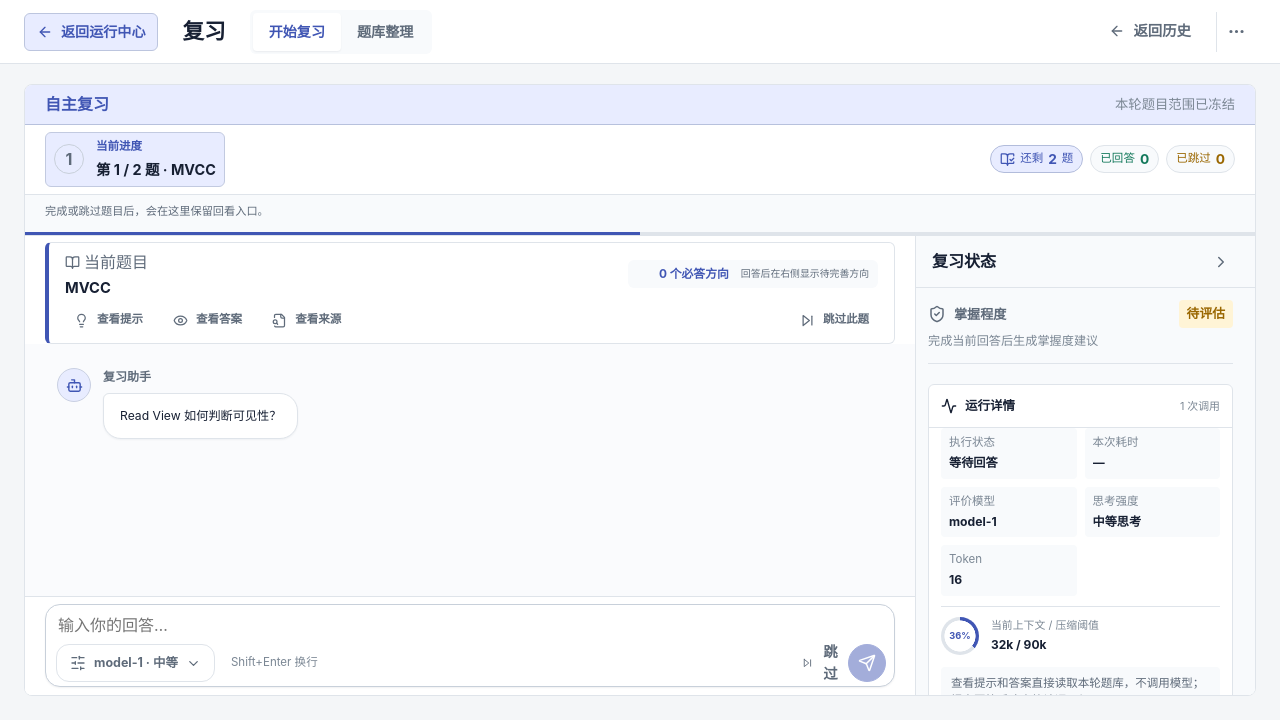
R2 ReviewPage › opens a run-center deep link at the exact review round and offers a quick return
Expected: the element named "当前复习轮次" shows "Read View 如何判断可见性？", [120,408,281,423]
Click the button "返回历史" at (1150, 32), box [1092,10,1208,54]
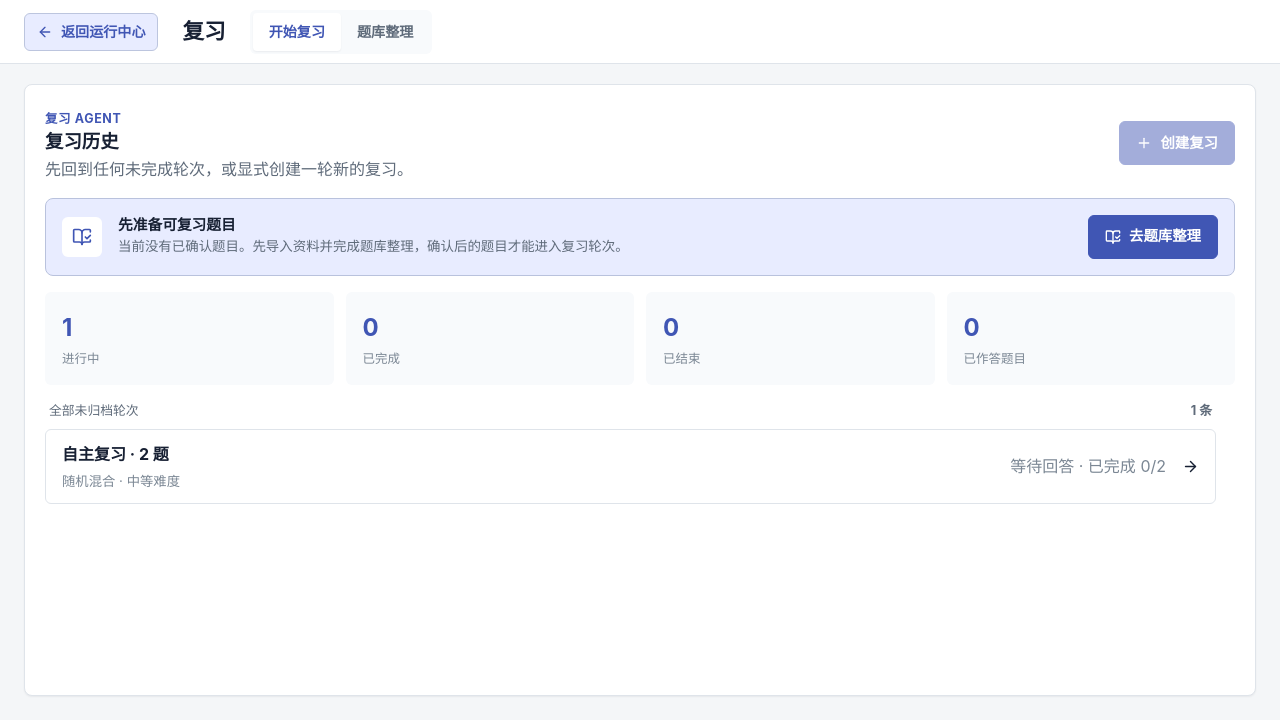
Expected: the heading "复习历史" is shown, [45,130,119,152]
Expected: the element "当前复习轮次" is gone
